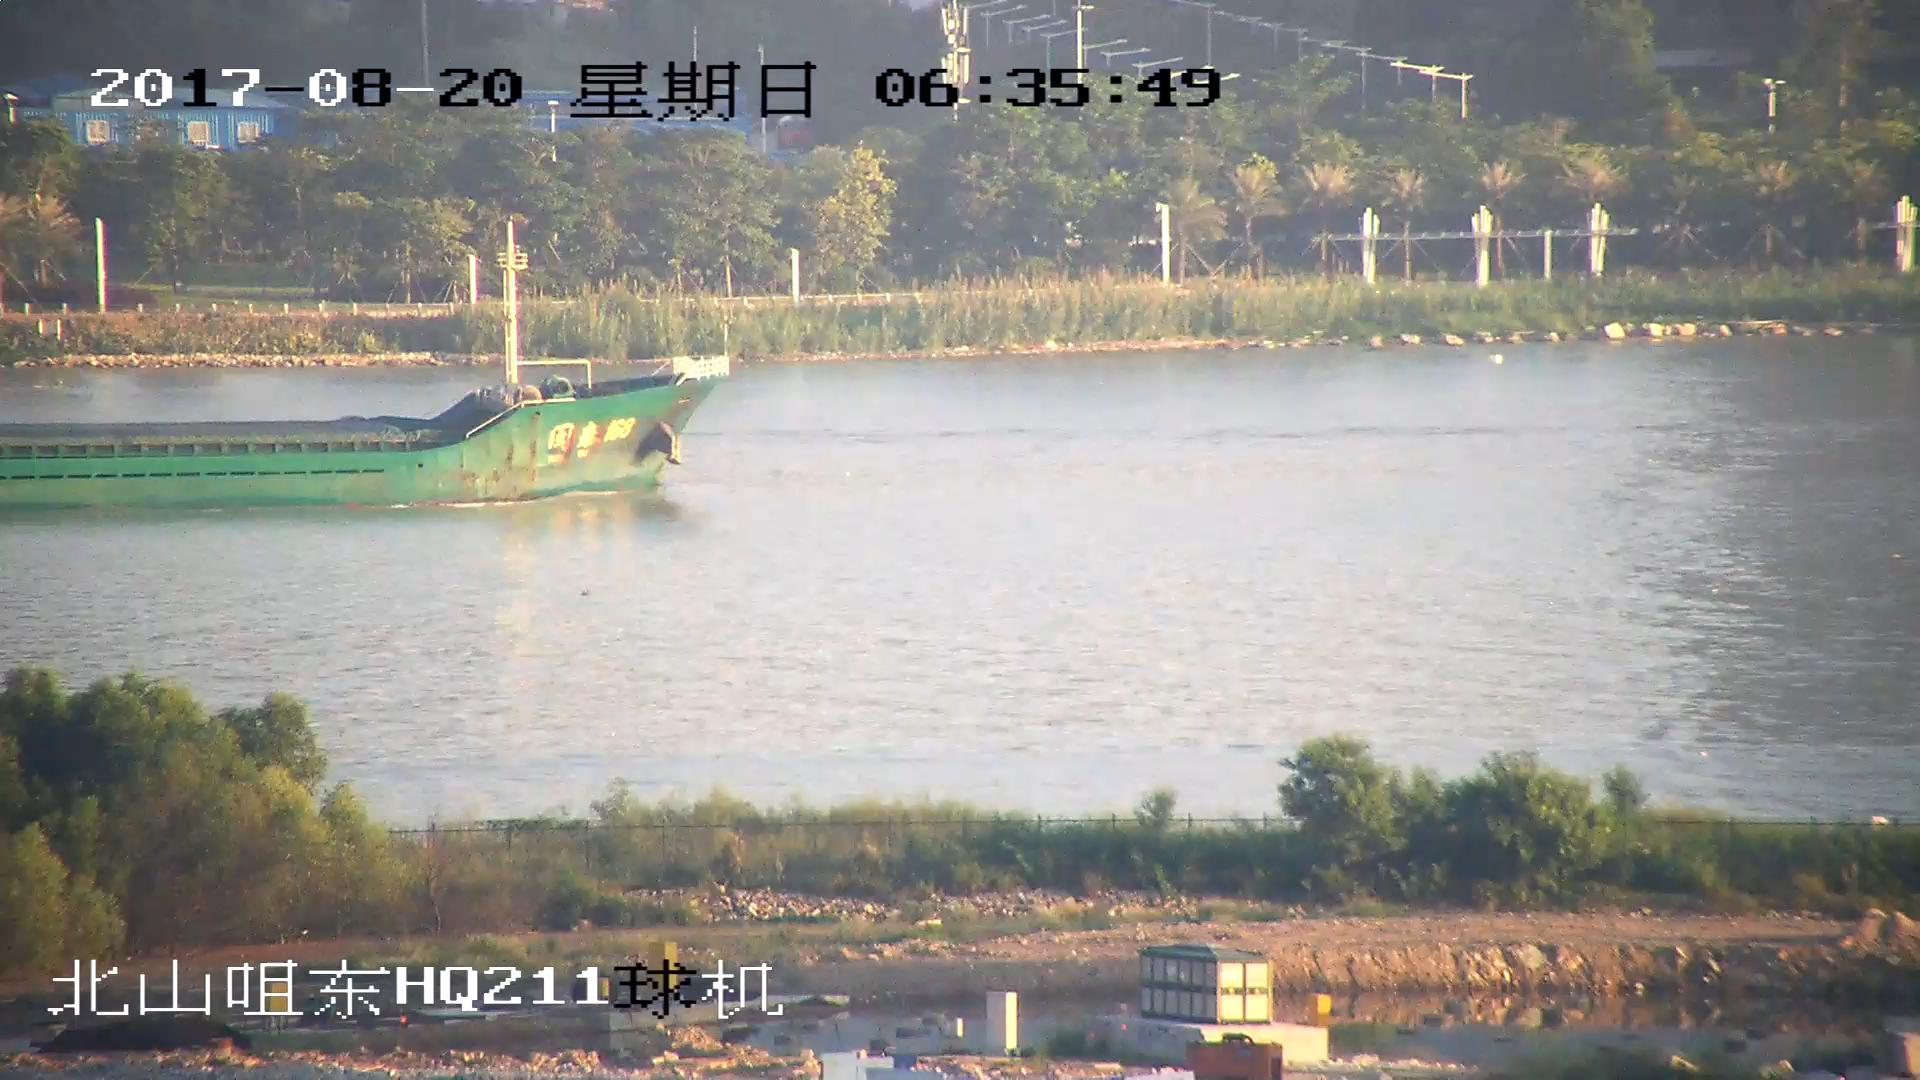Ship: (3, 237, 724, 512)
